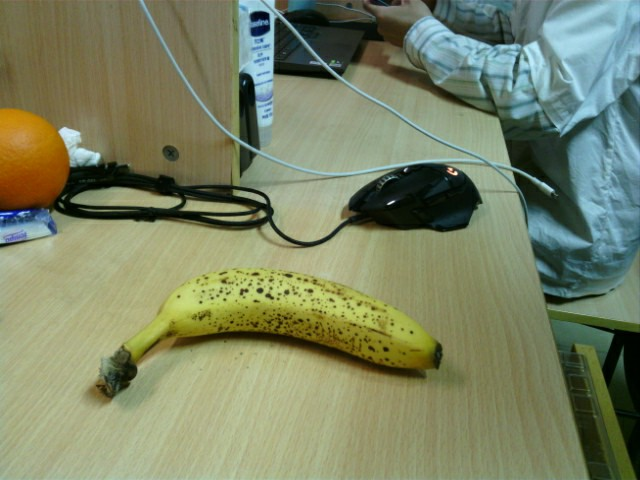normal_banana: (99, 268, 443, 401)
normal_orange: (1, 109, 68, 207)
